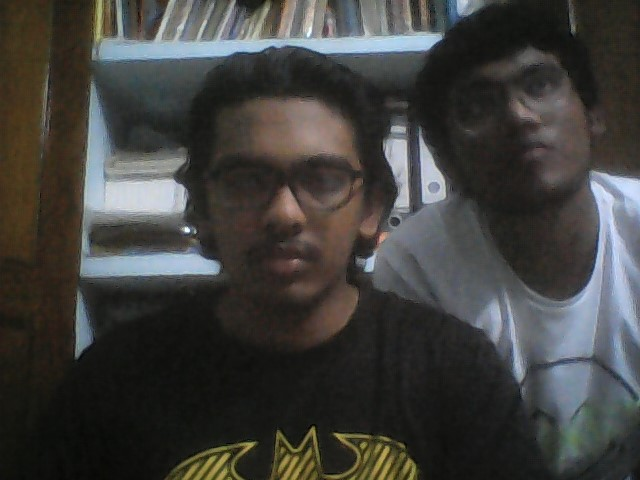person: (47, 47, 511, 480), (394, 1, 640, 327)
